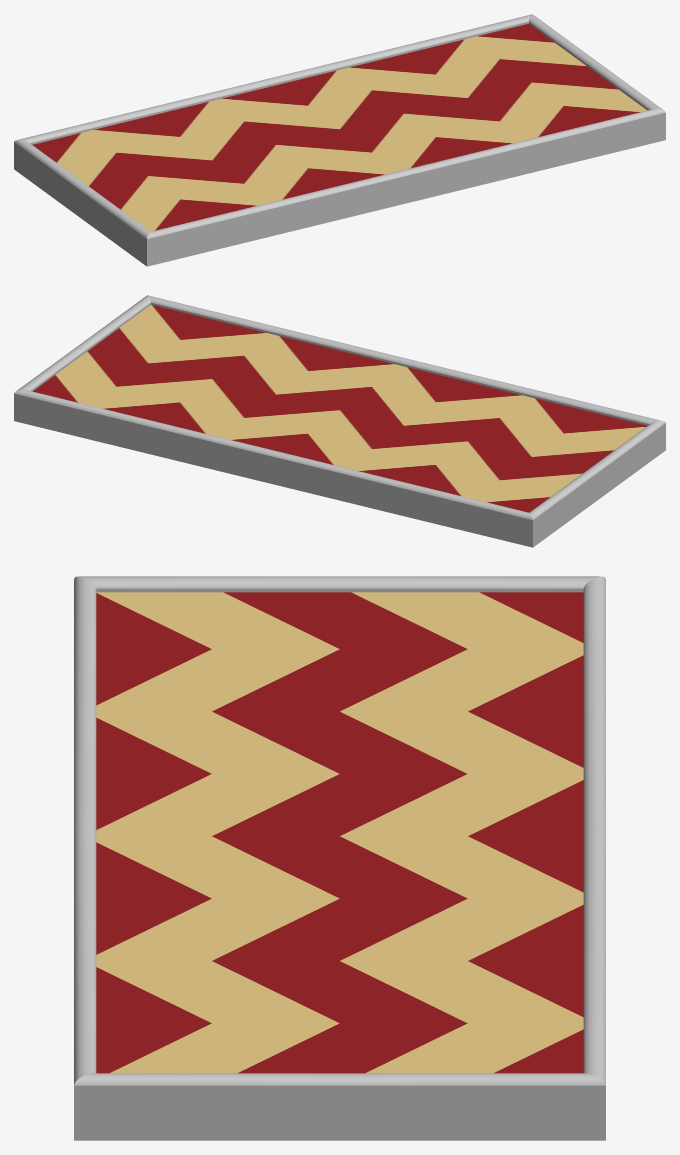
The model's file is mesh_boost_pad.fbx.
3 views of the same model, one above another, from view 1: azimuth 30°, elevation 25°; view 2: azimuth 150°, elevation 25°; view 3: azimuth 270°, elevation 25° (orthographic). The views are drawn at different scales.
Visible parts, largest first — view 1: BoostPad; view 2: BoostPad; view 3: BoostPad.
Boxes of the visible parts, x1=… form: BoostPad: x1=14, y1=14, x2=665, y2=266; BoostPad: x1=14, y1=295, x2=665, y2=547; BoostPad: x1=74, y1=576, x2=605, y2=1140.
Size of the model in its own units: 615 by 34.39 by 273.
